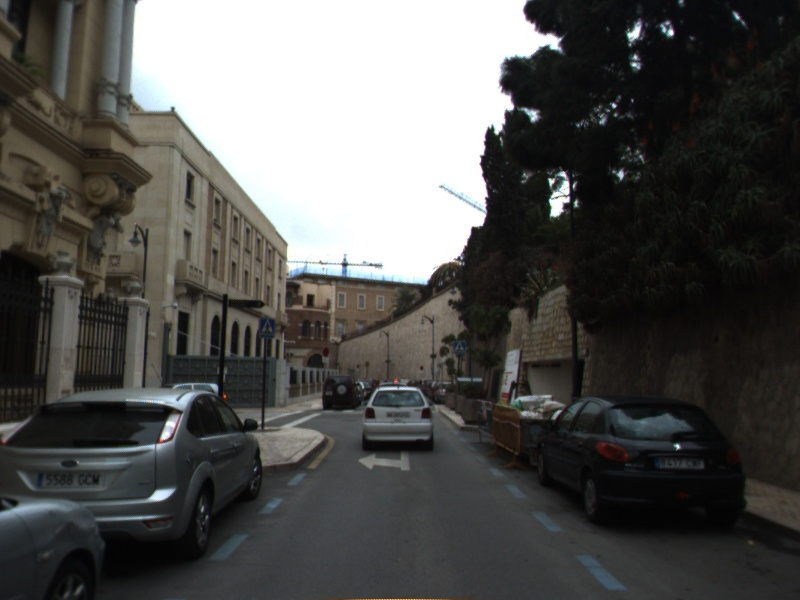STRAIGHT_LEFT: (357, 448, 412, 472)
